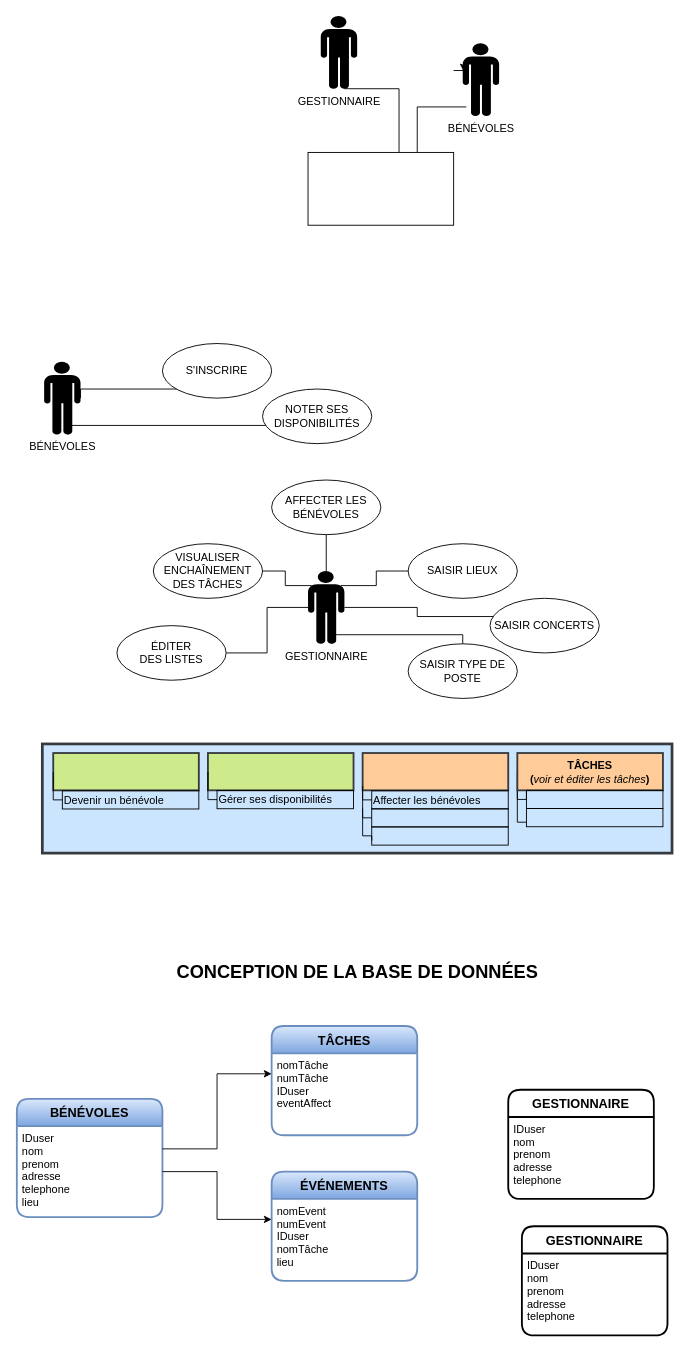
Image size: 689x1351. Some labels were removed from this diagram. Here are the shapes that lost their labels. From the top down, the centre of each, then its label:
(380,188): OUTIL DE GESTION DES MEMBRES DE L'ASSOCIATION
(125,771): INSCRIPTIONS ( devenez bénévole )
(280,771): CALENDRIER ( disponibilités )
(435,771): GESTION ( gérer bénévoles et événements )
(439,817): Gérer les postes
(594,799): Voir les tâches
(594,817): Éditer les tâches
(439,835): Gérer les événements
